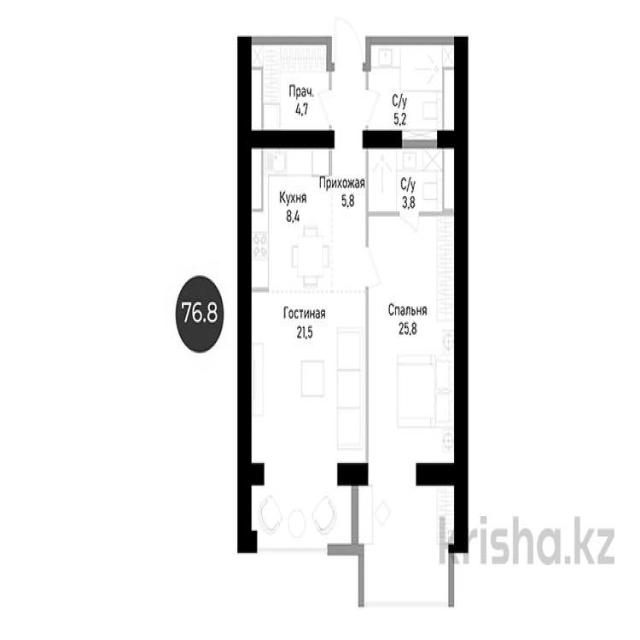balcony: (246, 475, 354, 553)
bathroom: (369, 40, 462, 139), (240, 42, 331, 139), (368, 142, 465, 212)
hallway: (332, 45, 368, 291)
kitchen: (245, 138, 330, 288)
living_room: (370, 214, 465, 478), (245, 292, 365, 471)
other: (358, 479, 462, 594)
